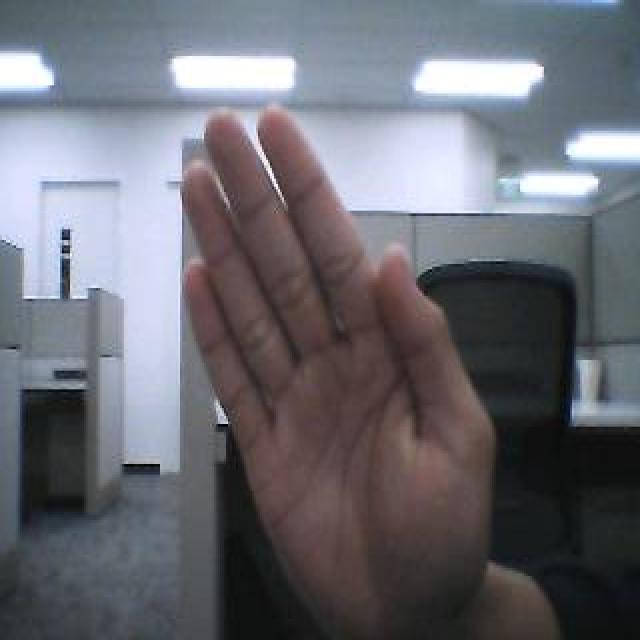hand: (179, 102, 497, 640)
